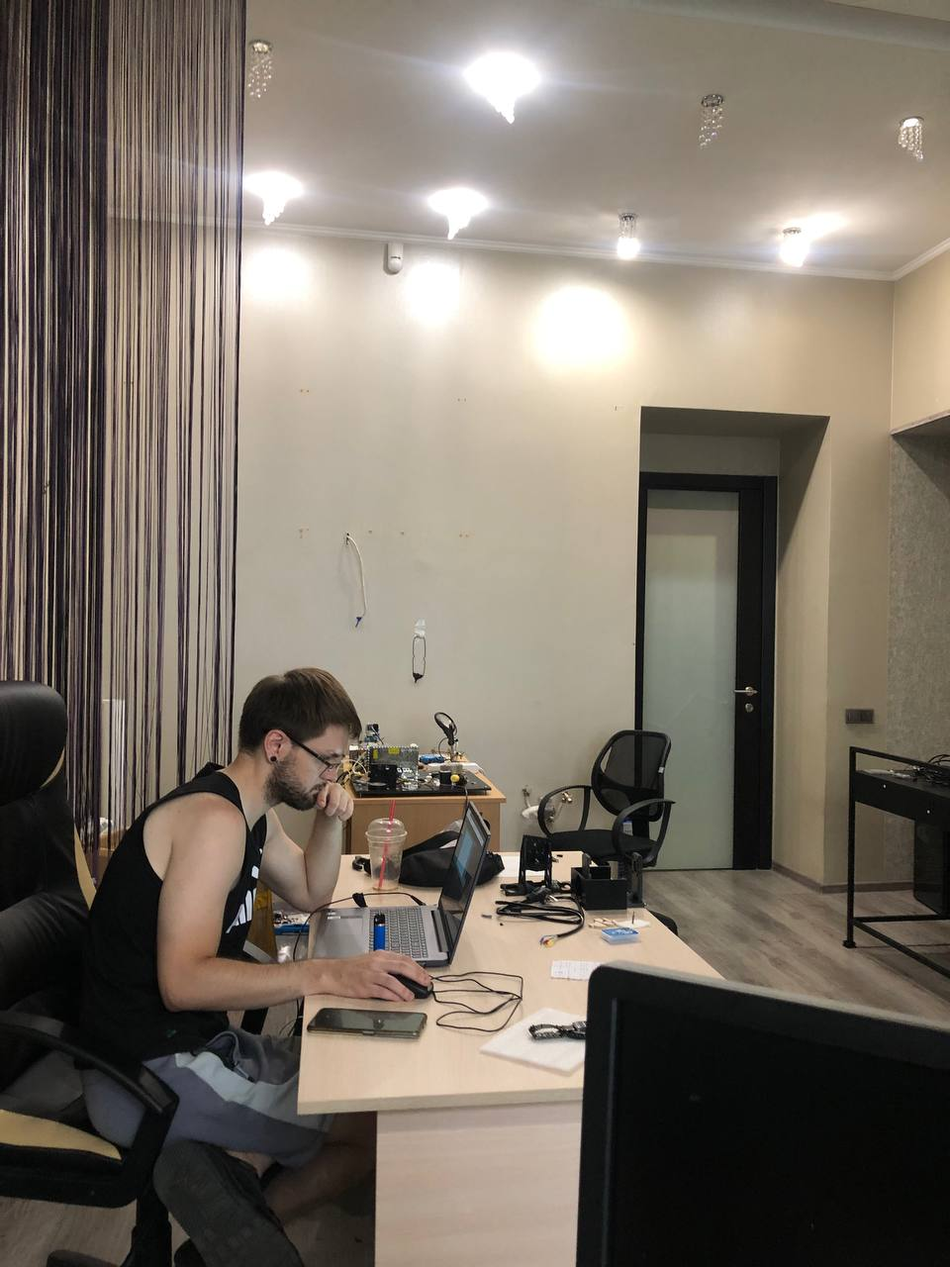shahed: (412, 672, 425, 684)
